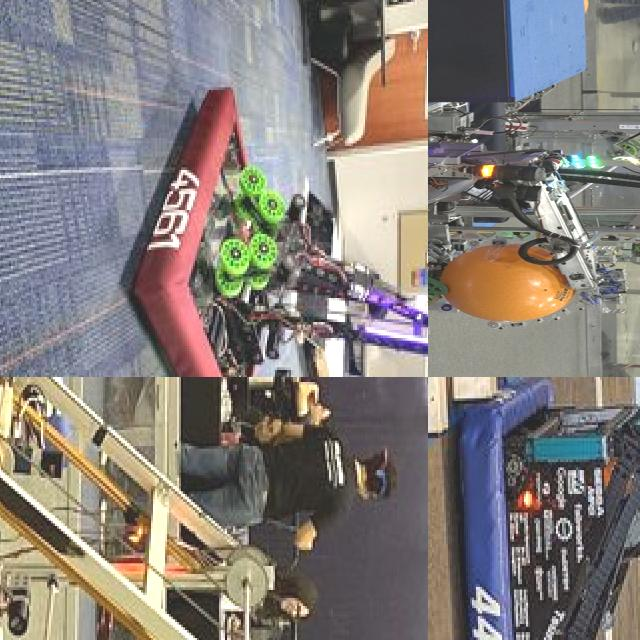FRC-Robots: (100, 78, 428, 377), (0, 377, 338, 640), (428, 377, 640, 640), (428, 120, 640, 377)
